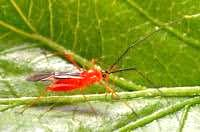Helopeltis-insect: (33, 61, 116, 98)
